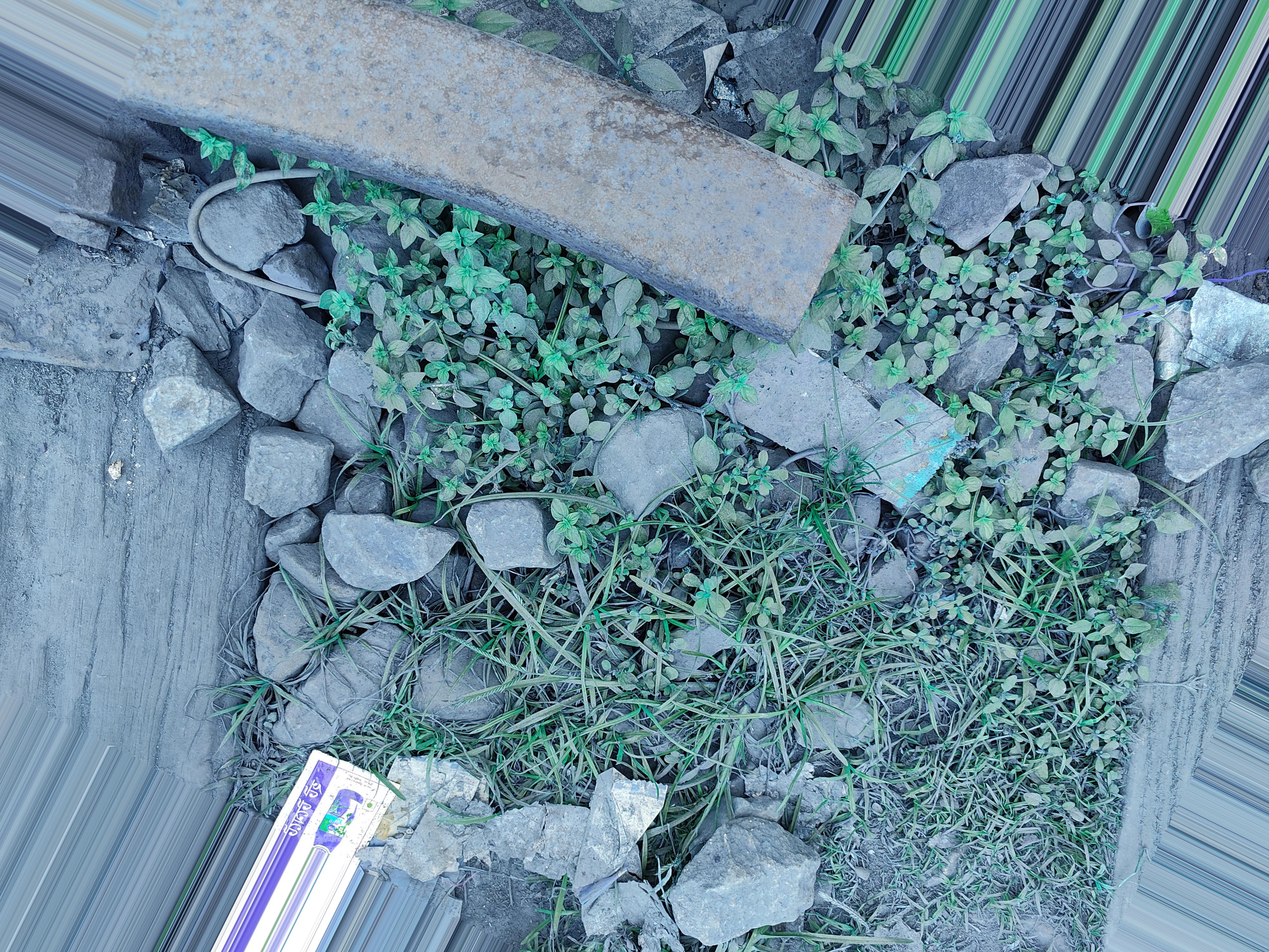tracks_fault: (750, 151, 1217, 509)
